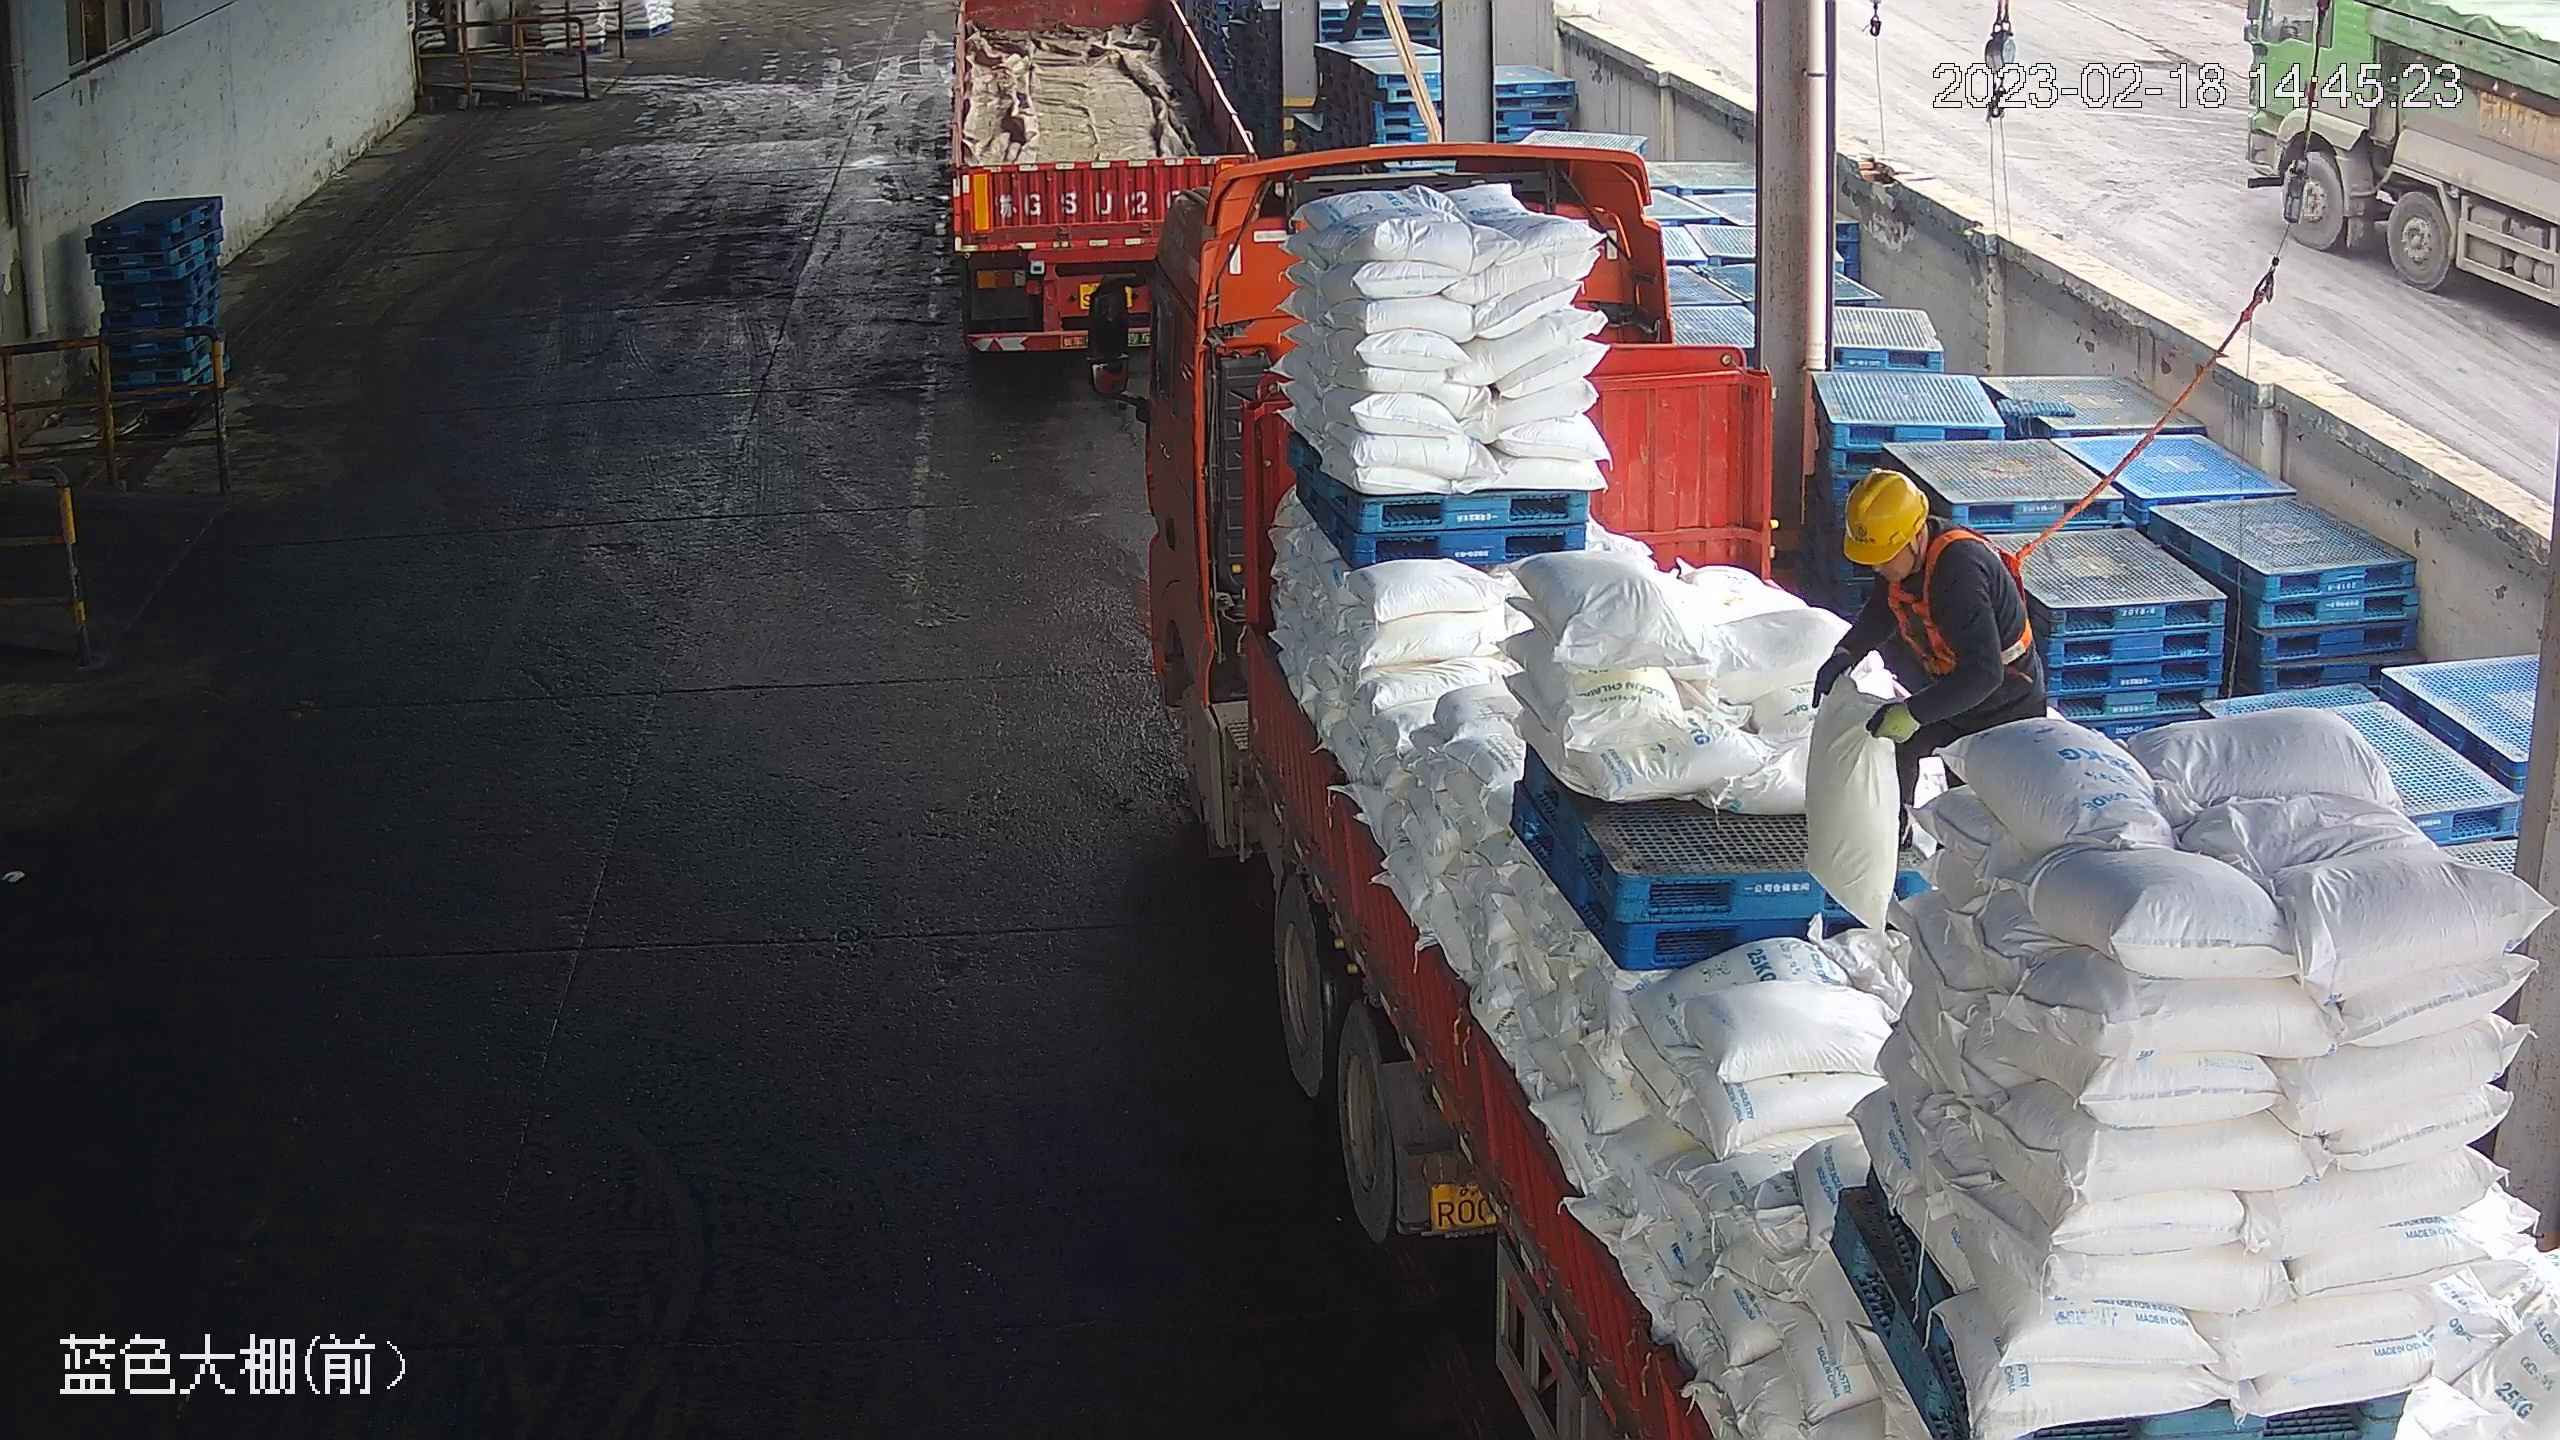belt: (1886, 530, 2040, 678)
head: (1839, 466, 1998, 625)
helmet: (1840, 467, 1927, 563)
people: (1804, 466, 2049, 936)
truck: (1086, 143, 2559, 1434), (947, 3, 1265, 360)
